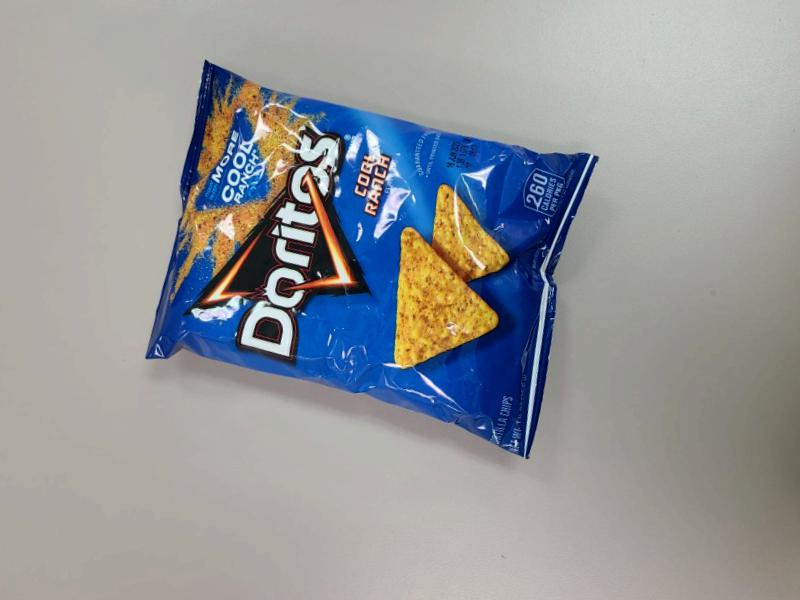doritos: (190, 65, 520, 440)
